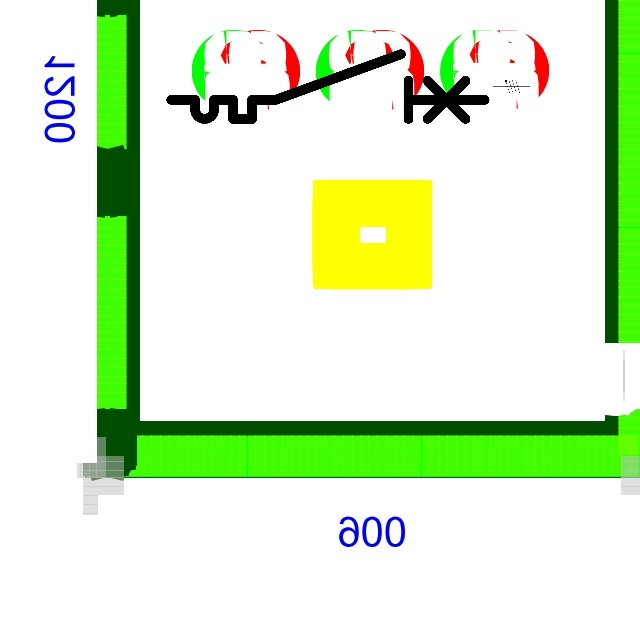interruptor_termomagnetico: (163, 46, 493, 127)
